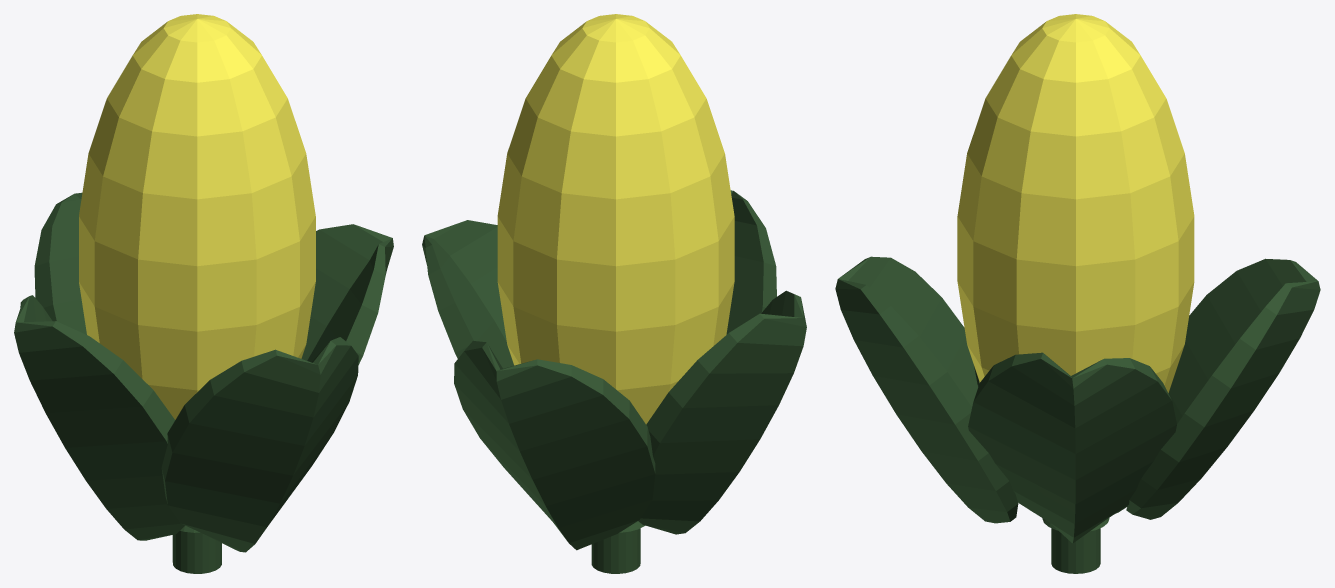
Rendered from corn.fbx.
3 views of the same model, side by side, from view 1: azimuth 30°, elevation 25°; view 2: azimuth 150°, elevation 25°; view 3: azimuth 270°, elevation 25° (orthographic).
Parts seen in each view (by area): view 1: polySurface1pSphere3; view 2: polySurface1pSphere3; view 3: polySurface1pSphere3.
Part boxes in pixels (bbox=[...]): polySurface1pSphere3: bbox=[14, 14, 393, 573]; polySurface1pSphere3: bbox=[422, 14, 806, 573]; polySurface1pSphere3: bbox=[835, 14, 1320, 573].
Size of the model in its own units: 3.69 by 5.05 by 4.05.
Materials: 2 (2 with a texture image).
